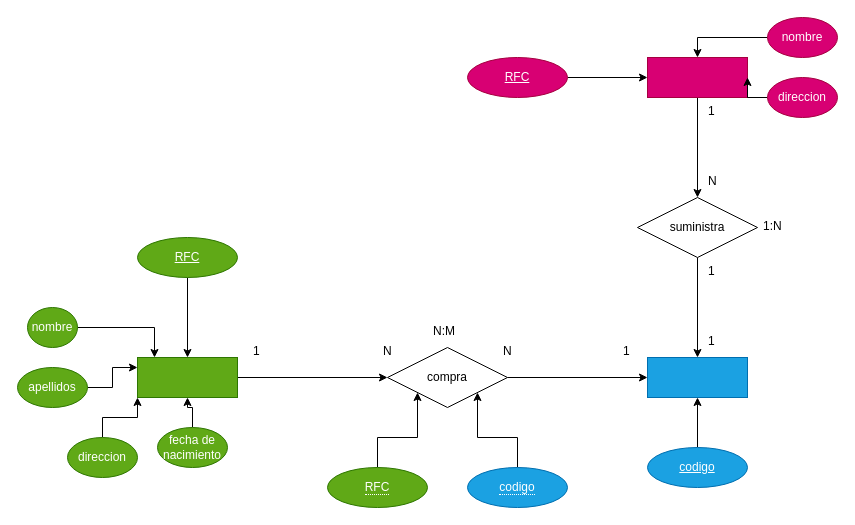
The diagram is 855 pixels wide and 525 high, and some of its shapes have lost their labels. Here are the shapes that lost their labels. From the top down, the centre of each, then its label:
point (697, 77): provedores
point (187, 377): cliente
point (697, 377): producto
